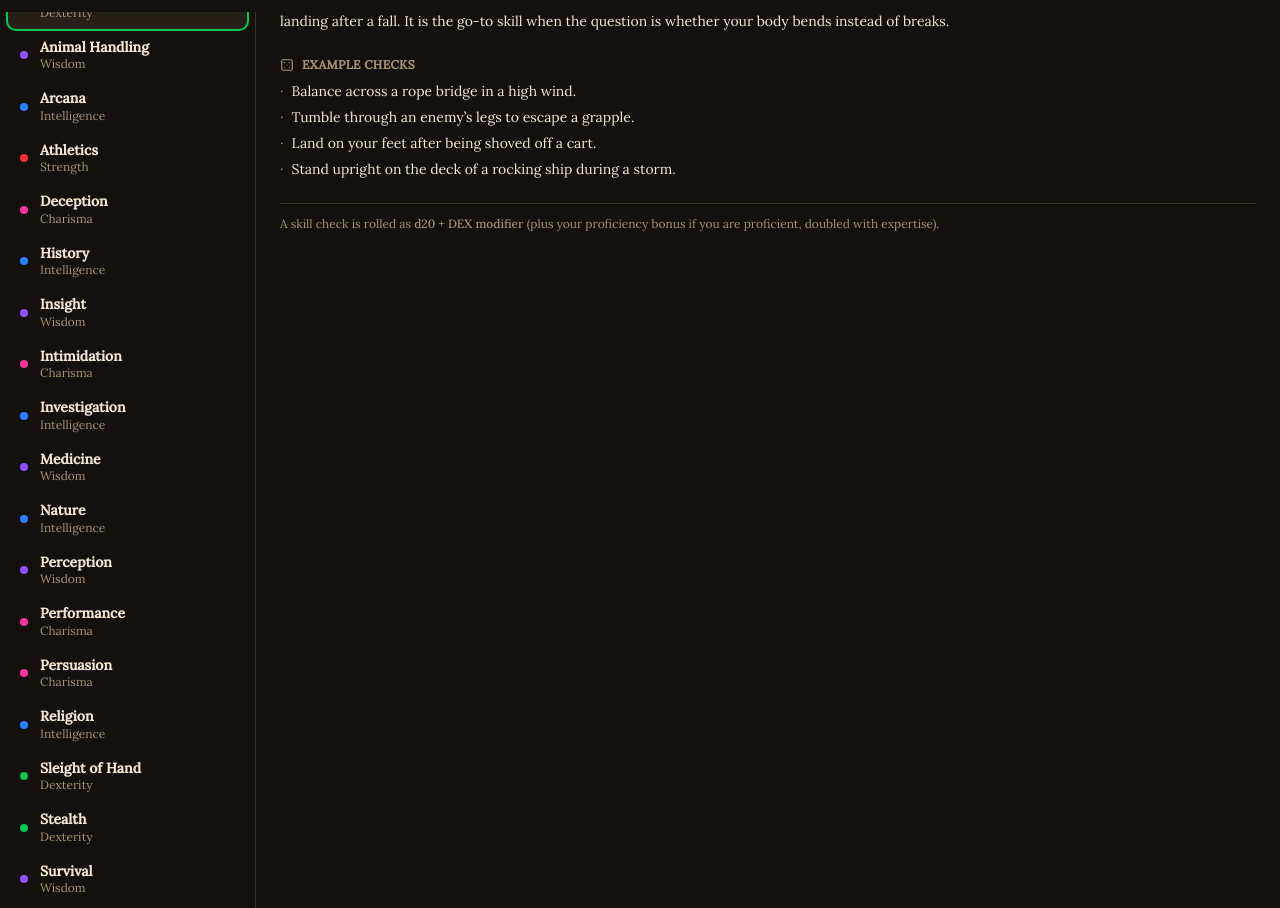
Test: SkillsTab › switches the detail panel when a different skill is clicked
The width and height of the screenshot is (1280, 908).
Click the button with test id "skill-row-Stealth".
click(128, 828)  # box [8,803,247,852]
(page scrolled)
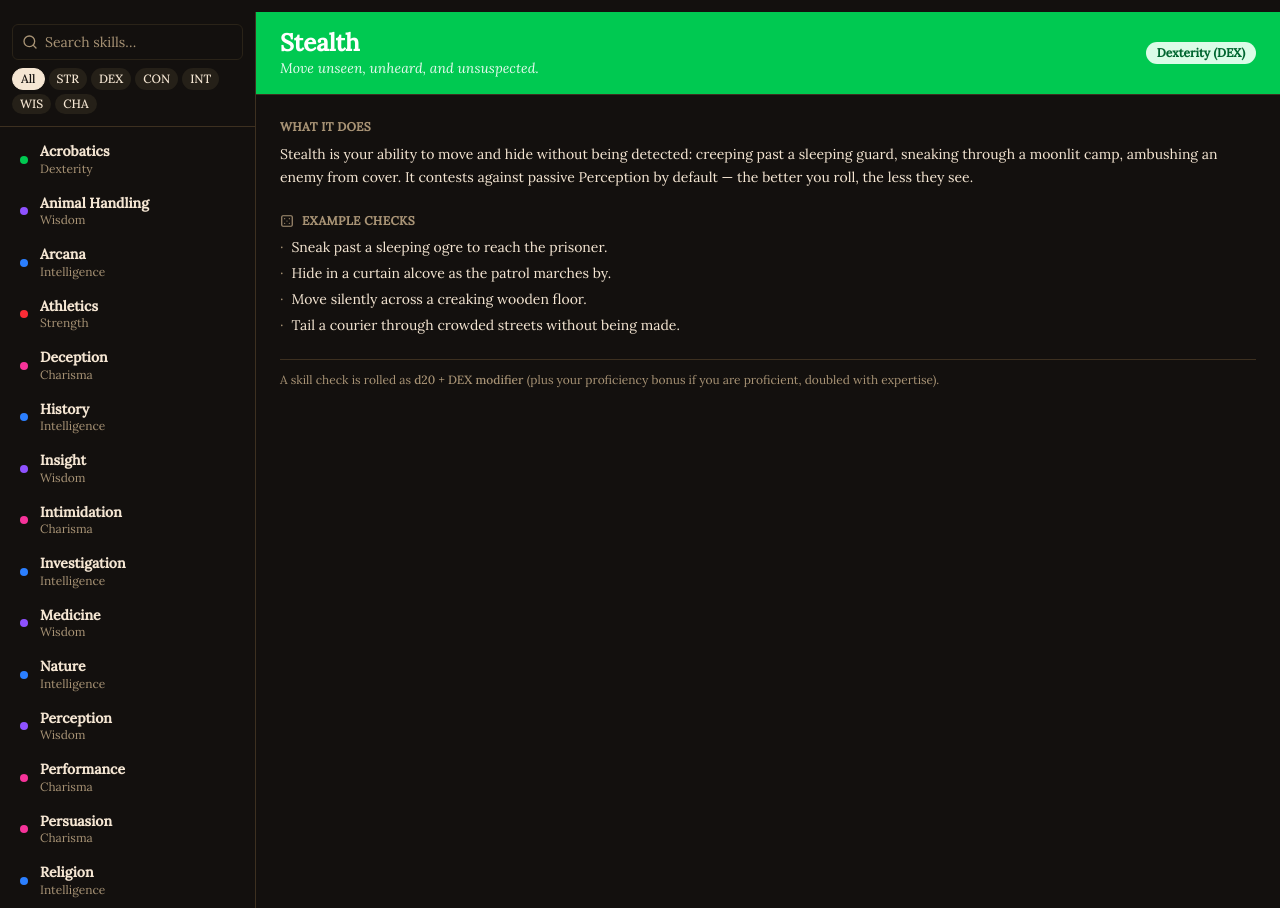
Expected: the element with test id "skill-detail" shows "Dexterity (DEX)", [256,12,1279,412]
Result: the element with test id "skill-detail" shows "Stealth" at [280,27,360,58]
